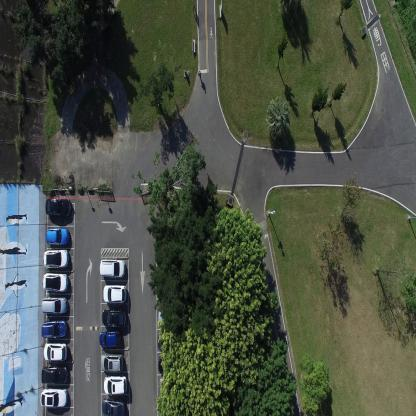car: (40, 387, 68, 408), (42, 271, 68, 293), (42, 249, 69, 270), (41, 318, 68, 338), (41, 364, 68, 384), (103, 374, 127, 396), (100, 258, 126, 278), (41, 295, 68, 314), (43, 341, 67, 362), (102, 307, 127, 327), (102, 284, 127, 304), (45, 198, 71, 217), (157, 332, 181, 352), (100, 352, 124, 372), (45, 227, 70, 246), (157, 309, 181, 328), (102, 396, 126, 415), (158, 354, 180, 374), (99, 328, 121, 348)
